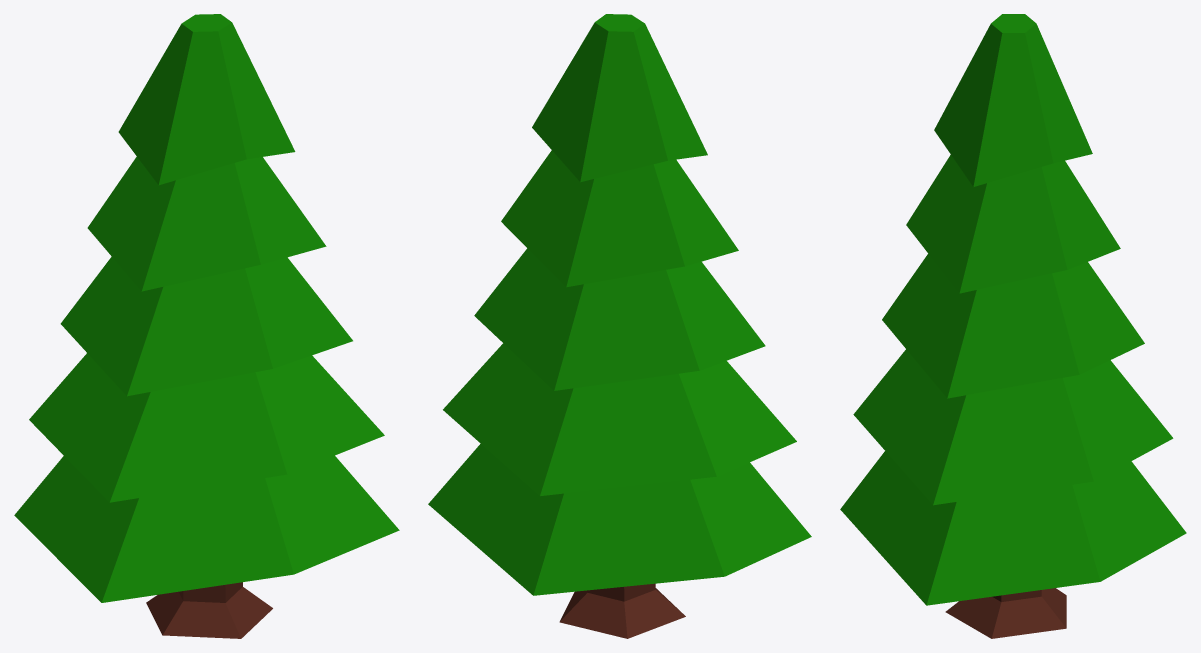
Rendered from tree5.fbx.
3 renders of one model, left to right at view 1: azimuth 30°, elevation 25°; view 2: azimuth 150°, elevation 25°; view 3: azimuth 270°, elevation 25°, orthographic.
Parts seen in each view (by area): view 1: Tree6.006; view 2: Tree6.006; view 3: Tree6.006.
Part boxes in pixels (left/top/right/bottom): Tree6.006: left=14, top=14, right=399, bottom=638; Tree6.006: left=428, top=14, right=811, bottom=638; Tree6.006: left=840, top=14, right=1186, bottom=638.
Size of the model in its own units: 9.6 by 18.17 by 9.7.
